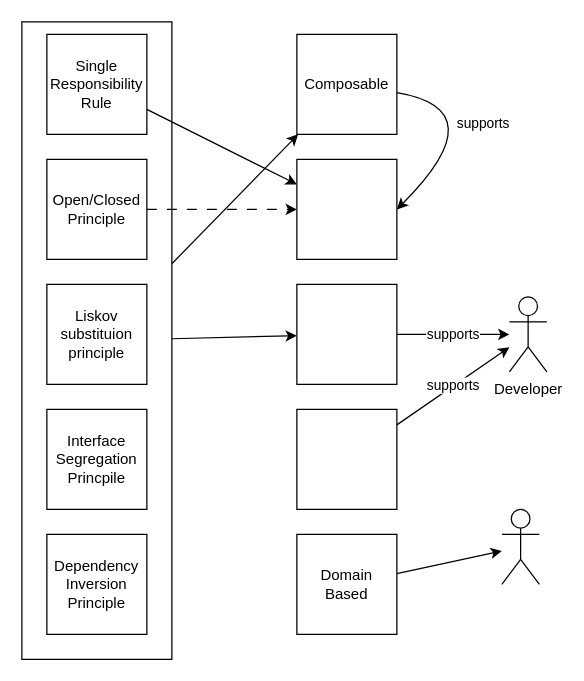
This 584x681 diagram has some shape labels left out. Each missing label, with the box of its shape:
Business Person: (501, 508, 539, 584)
Idiomatic: (296, 408, 397, 509)
Predictable: (296, 283, 397, 384)
UNIX Philosophy: (296, 158, 397, 259)
